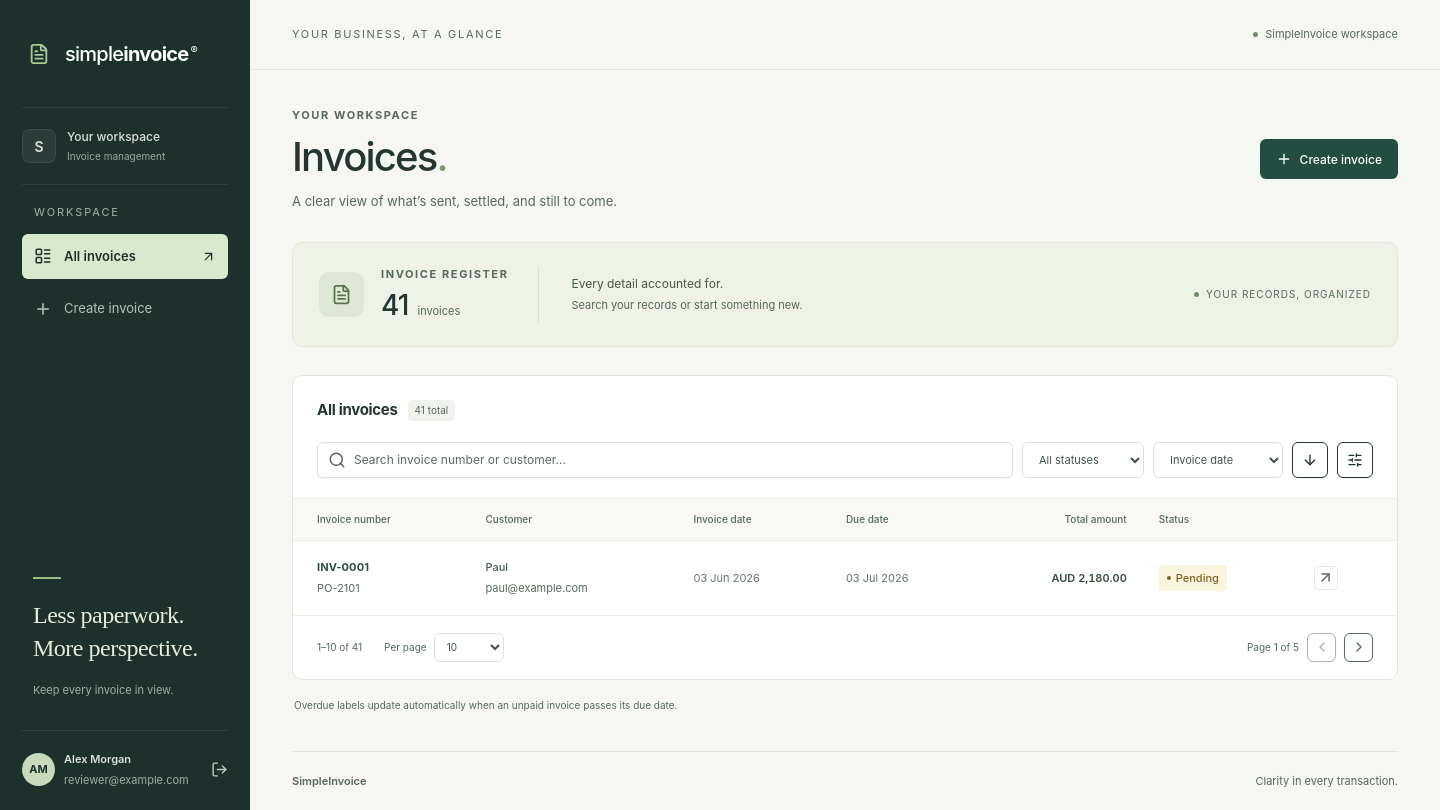
Test: Invoice list controls › prevents requests for an inverted invoice date range
This screenshot has width=1440, height=810.
Expected: the link "INV-0001" is shown, [317,560,369,574]
Click the button named "Toggle invoice date filters" at point(1355, 460), box [1337,442,1373,478]
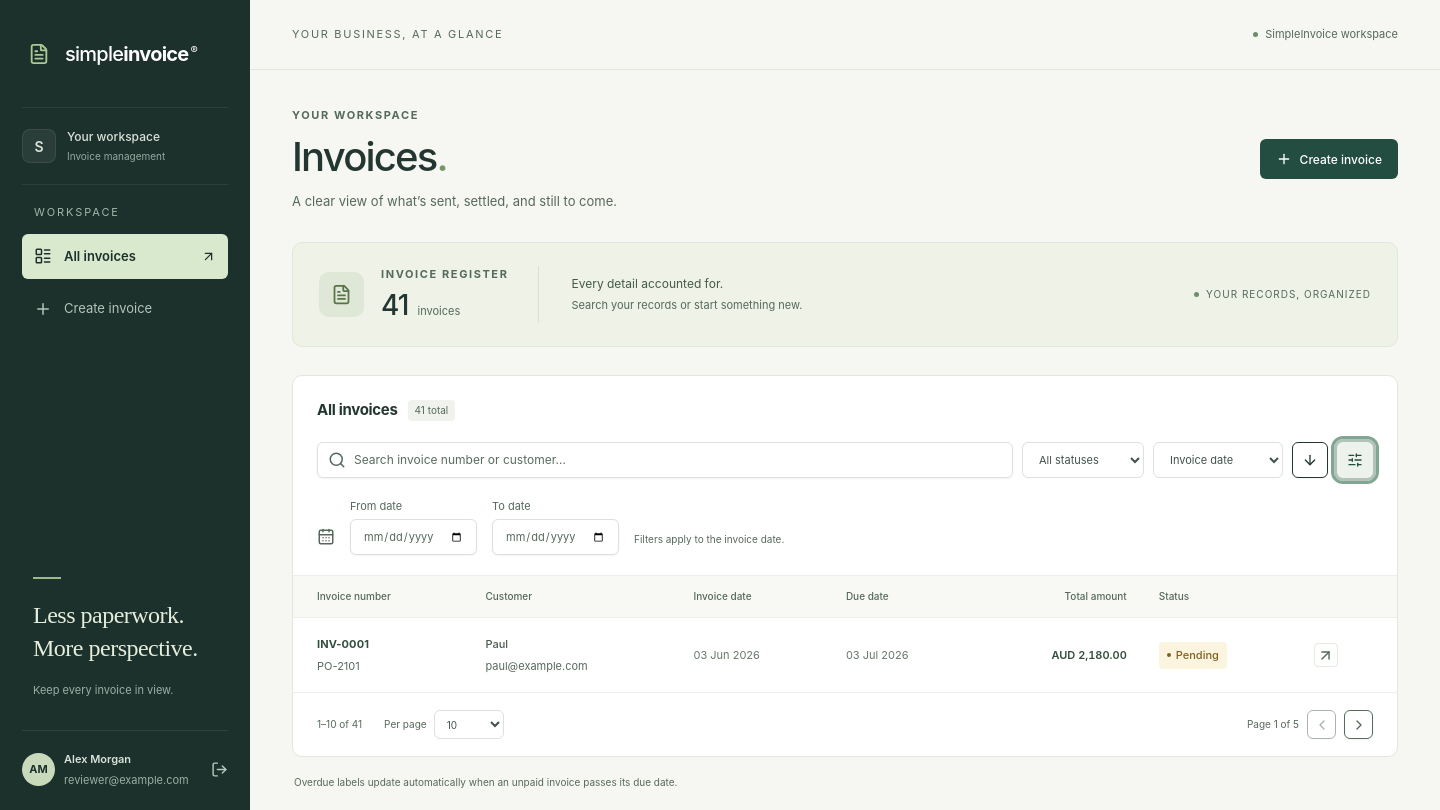
Type "2026-07-03" into the date field labelled "From date" at point(414, 538), box [350,520,477,556]
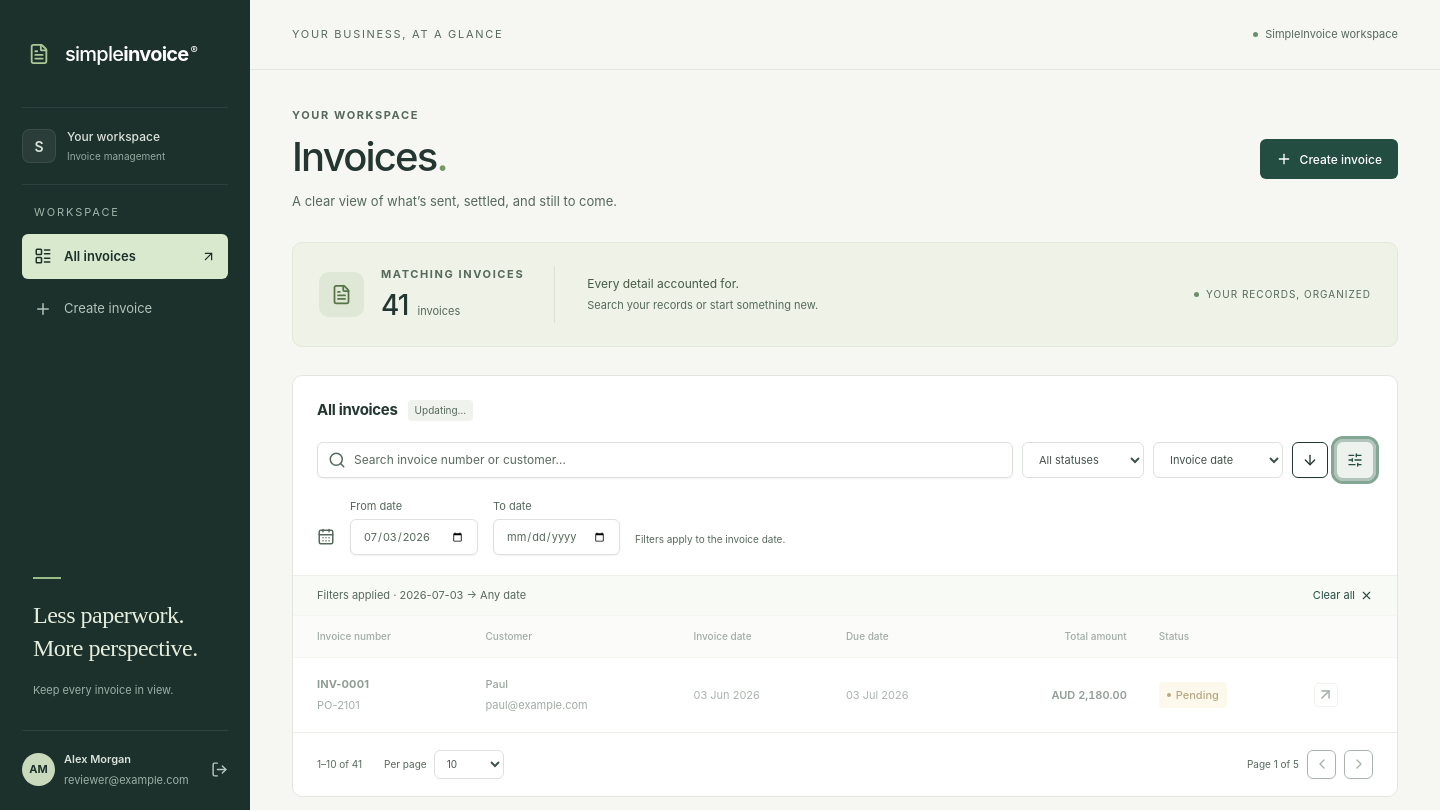
Type "2026-06-03" into the date field labelled "To date" at point(556, 538), box [493,520,620,556]
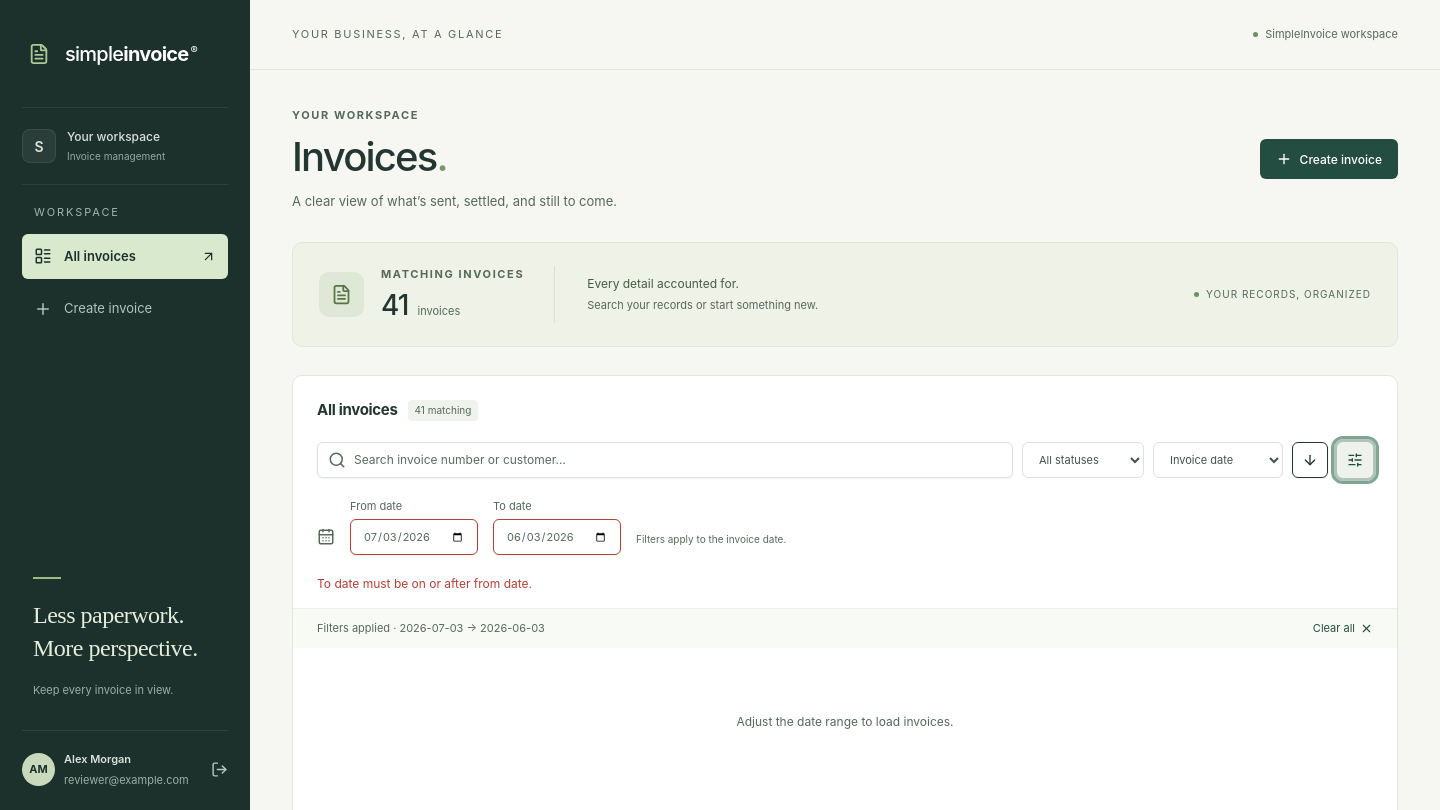
Now the message "To date must be on or after from date." is shown, box [317,576,532,592]
